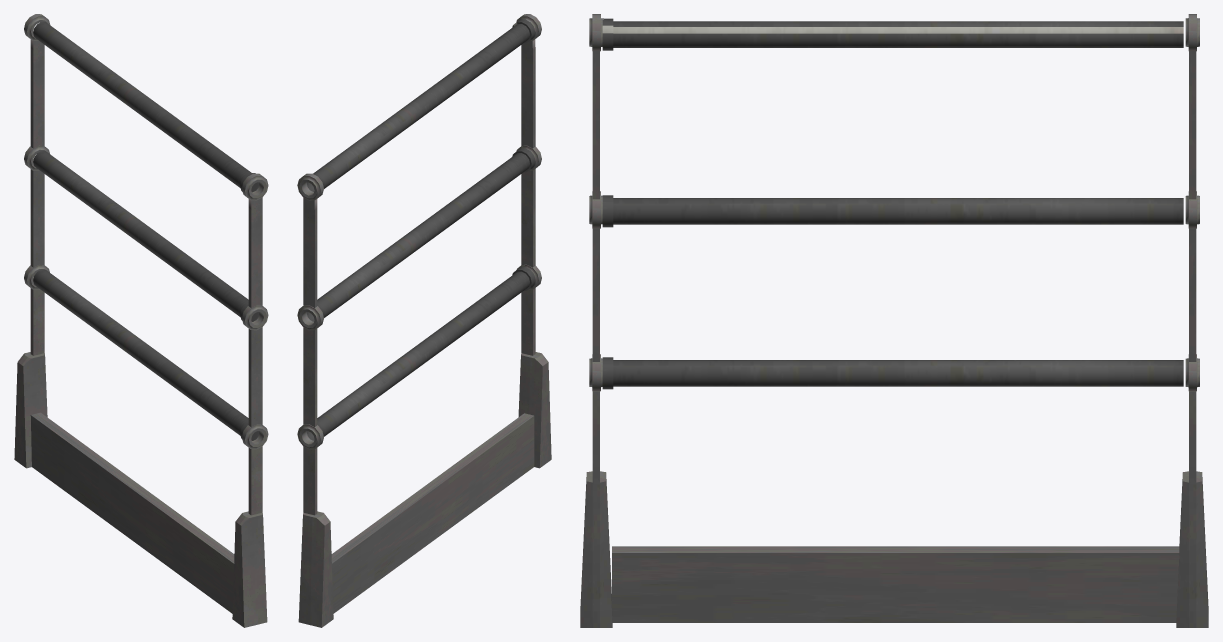
File: Railing_p3.fbx
3 renders of one model, left to right at view 1: azimuth 30°, elevation 25°; view 2: azimuth 150°, elevation 25°; view 3: azimuth 270°, elevation 25°, orthographic. The views are drawn at different scales.
Visible parts, largest first — view 1: Railing_p3; view 2: Railing_p3; view 3: Railing_p3.
Boxes of the visible parts, x1,y1,x2,y2 form: Railing_p3: [14, 14, 268, 627]; Railing_p3: [297, 14, 551, 627]; Railing_p3: [580, 14, 1208, 627].
Size of the model in its own units: 0.1494 by 2.21 by 2.07.
